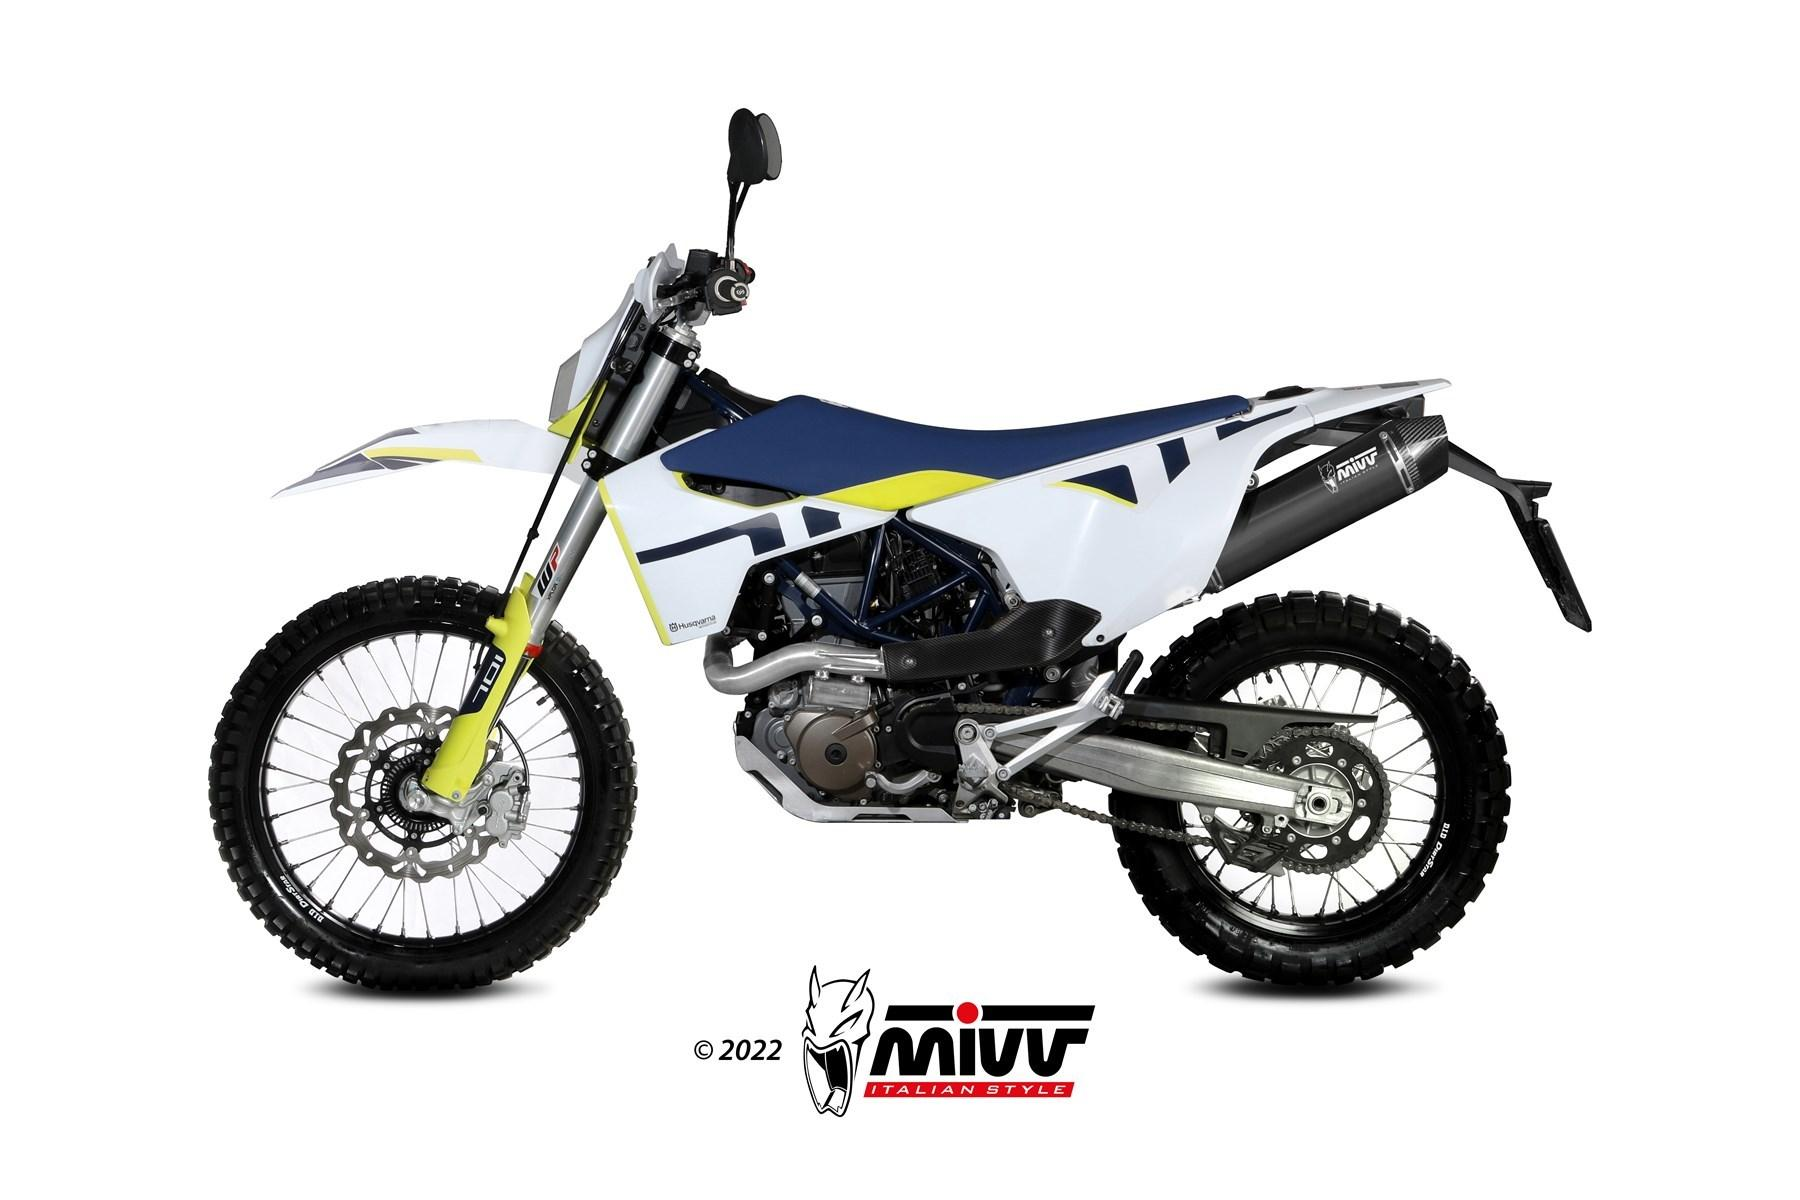engine-chasis: (721, 506, 1023, 662), (731, 671, 1017, 824)
exhaust: (1167, 414, 1449, 611), (702, 599, 1102, 711)
frontside: (269, 283, 900, 804)
handlebar: (633, 107, 782, 332)
motorbike: (208, 107, 1592, 991)
rearside: (905, 378, 1453, 828), (1448, 439, 1592, 633)
seat: (660, 394, 1250, 512)
tank: (696, 367, 778, 415)
watermark: (687, 962, 1102, 1125)
wheel: (208, 575, 639, 994), (1108, 589, 1512, 988), (494, 300, 644, 617), (1275, 727, 1392, 876), (999, 782, 1217, 849), (497, 718, 529, 786), (955, 702, 1058, 715), (1124, 721, 1212, 734)
